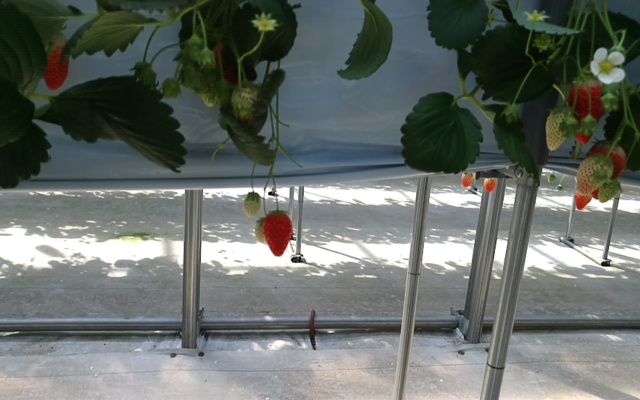GreenStrawberry: (576, 154, 614, 195), (232, 82, 263, 126), (544, 105, 573, 151), (243, 192, 262, 220), (598, 179, 617, 203), (254, 220, 268, 245)
MatureStrawberry: (568, 69, 608, 144), (587, 136, 626, 201), (41, 32, 70, 92), (262, 209, 294, 258), (572, 189, 593, 211)
